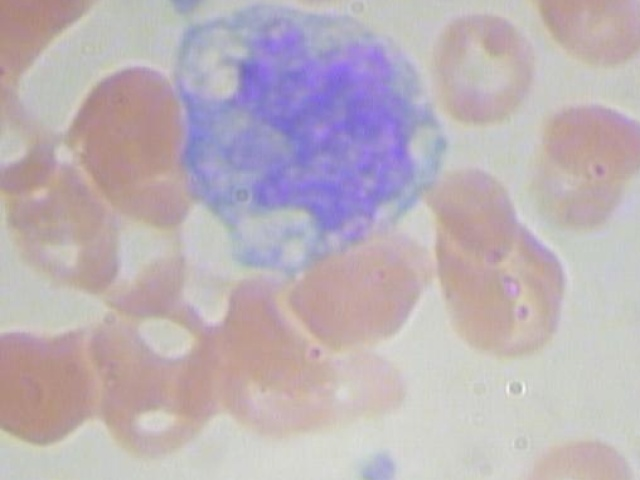Platelets: (345, 443, 405, 480)
RBC: (448, 234, 590, 358), (56, 62, 188, 195), (291, 232, 423, 365), (424, 1, 545, 145), (93, 354, 237, 467), (0, 319, 109, 452), (423, 152, 520, 272), (533, 82, 640, 184), (526, 0, 640, 80), (496, 426, 638, 480), (0, 471, 149, 480)
WBC: (161, 0, 435, 282)
